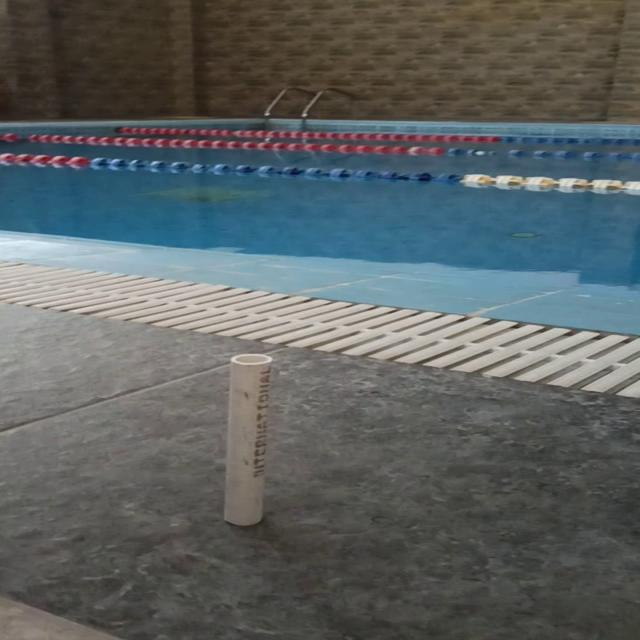Cube: (221, 352, 273, 526)
